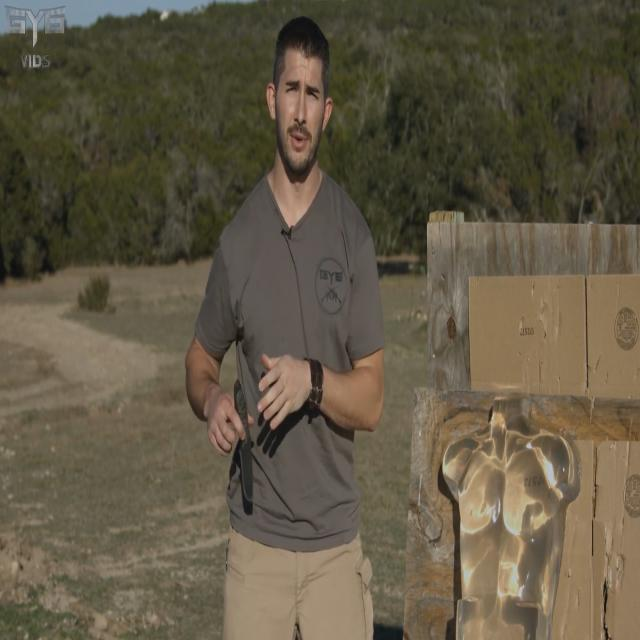knife: (233, 380, 260, 513)
